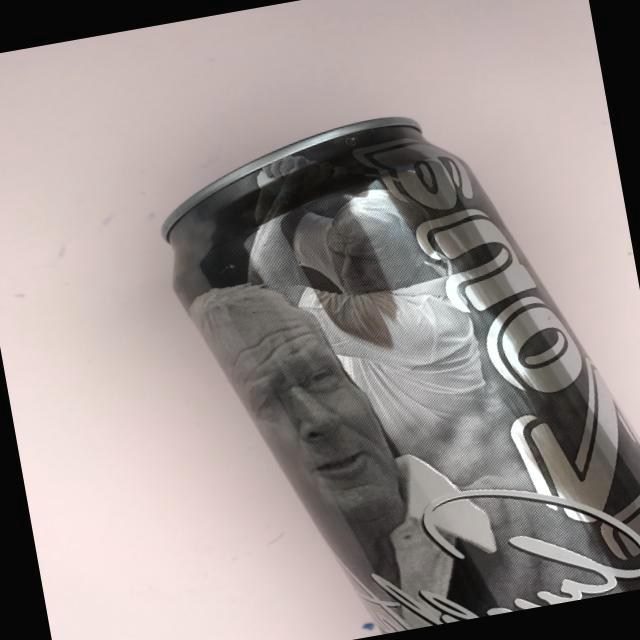metal: (131, 68, 640, 640)
